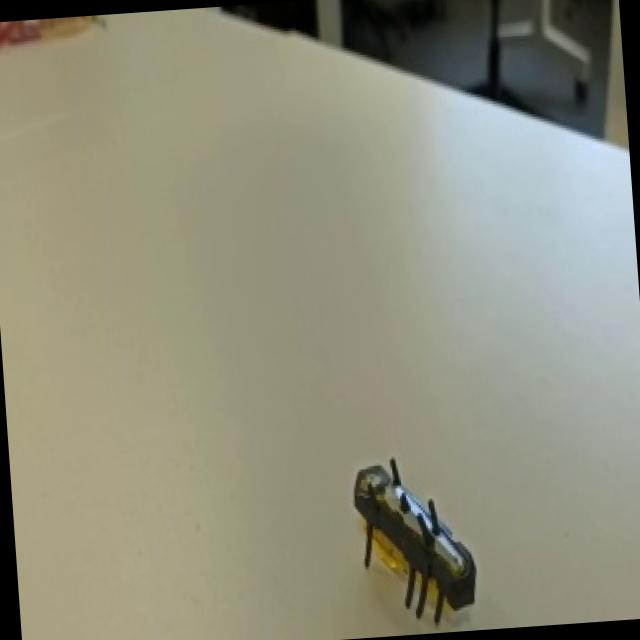6_NanoBug_GrisOscuro: (322, 402, 538, 640)
